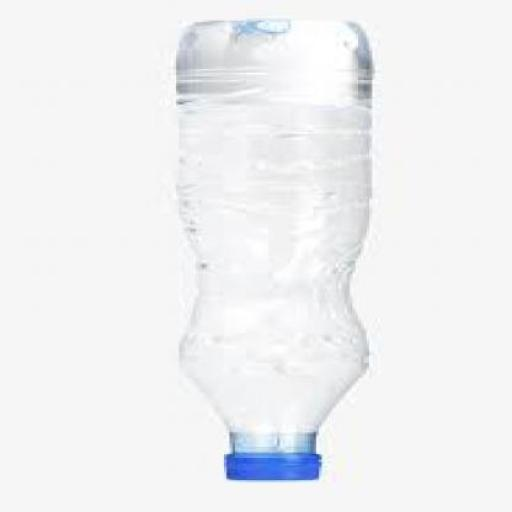plastic: (176, 21, 369, 484), (221, 452, 319, 484)
